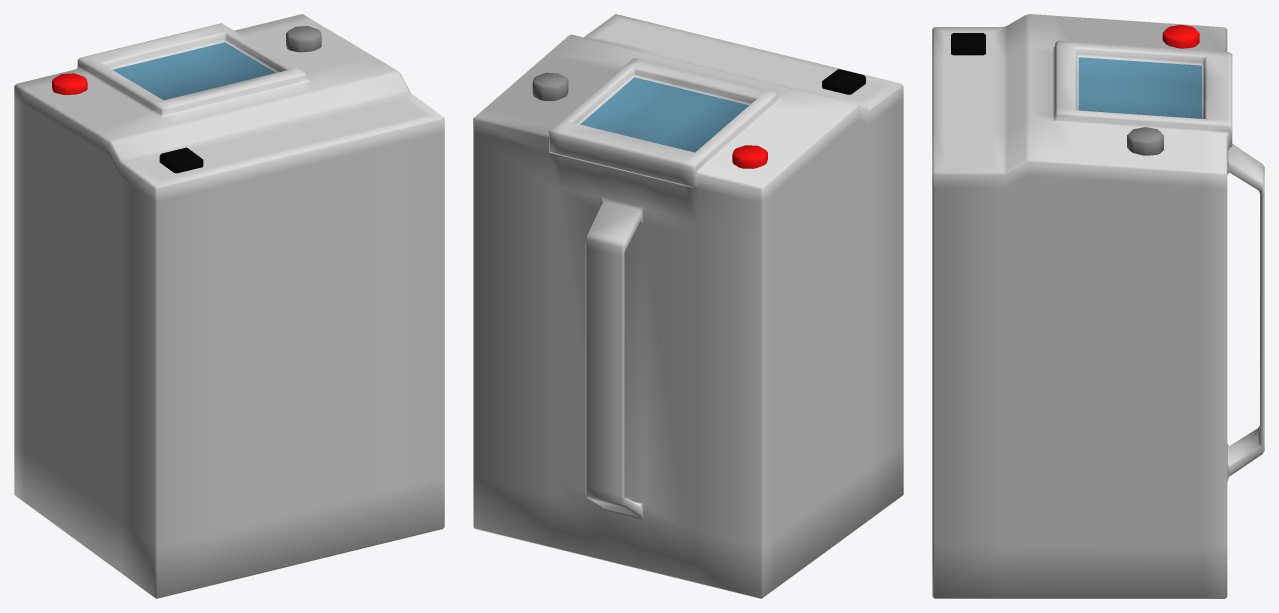
3 renders of one model, left to right at view 1: azimuth 30°, elevation 25°; view 2: azimuth 150°, elevation 25°; view 3: azimuth 270°, elevation 25°, orthographic. The views are drawn at different scales.
Parts seen in each view (by area): view 1: Cube.001; view 2: Cube.001; view 3: Cube.001.
Boxes of the visible parts, left/top/right/bottom form: Cube.001: left=14, top=14, right=444, bottom=598; Cube.001: left=473, top=14, right=903, bottom=598; Cube.001: left=932, top=14, right=1264, bottom=598.
Size of the model in its own units: 20 by 28.42 by 19.16.
